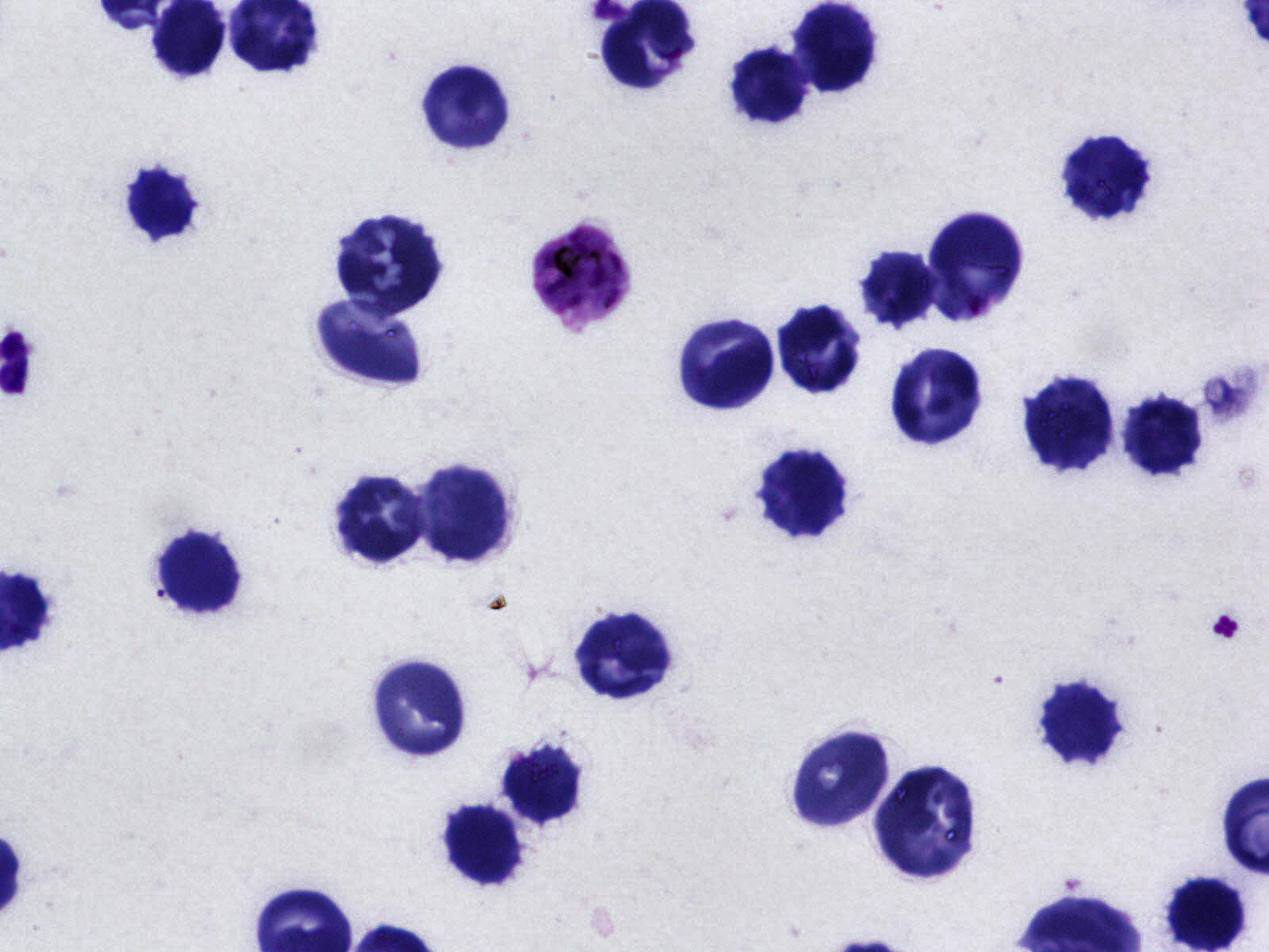Infected: (533, 223, 634, 328)
Uninfected: (874, 766, 976, 880), (338, 212, 438, 317), (932, 213, 1022, 321), (890, 346, 984, 446), (319, 298, 423, 386), (576, 613, 676, 703), (794, 730, 890, 823), (376, 658, 465, 757), (681, 318, 773, 409), (336, 479, 432, 565), (1058, 134, 1155, 218), (1026, 378, 1114, 470), (424, 466, 511, 559), (422, 63, 512, 150), (762, 447, 849, 536), (780, 302, 863, 393), (794, 2, 874, 94), (159, 532, 243, 617), (501, 742, 585, 825), (1042, 681, 1121, 766), (444, 804, 526, 885), (1124, 395, 1203, 479), (1166, 873, 1248, 952), (122, 164, 199, 244), (730, 45, 807, 124), (863, 250, 937, 327)
